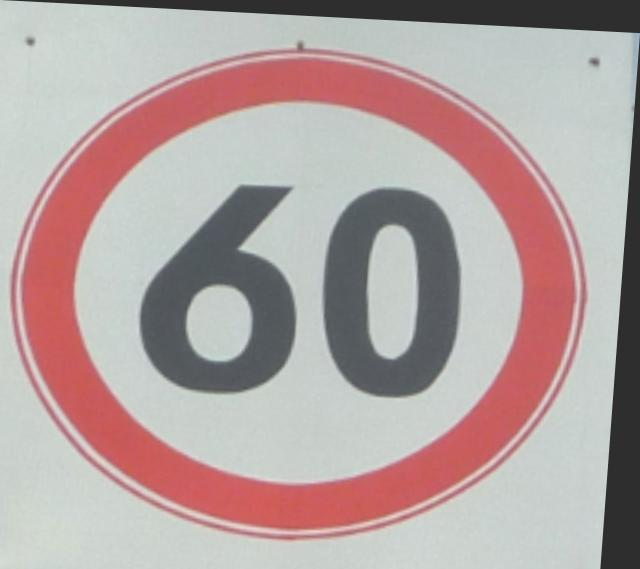limit60: (0, 22, 624, 561)
